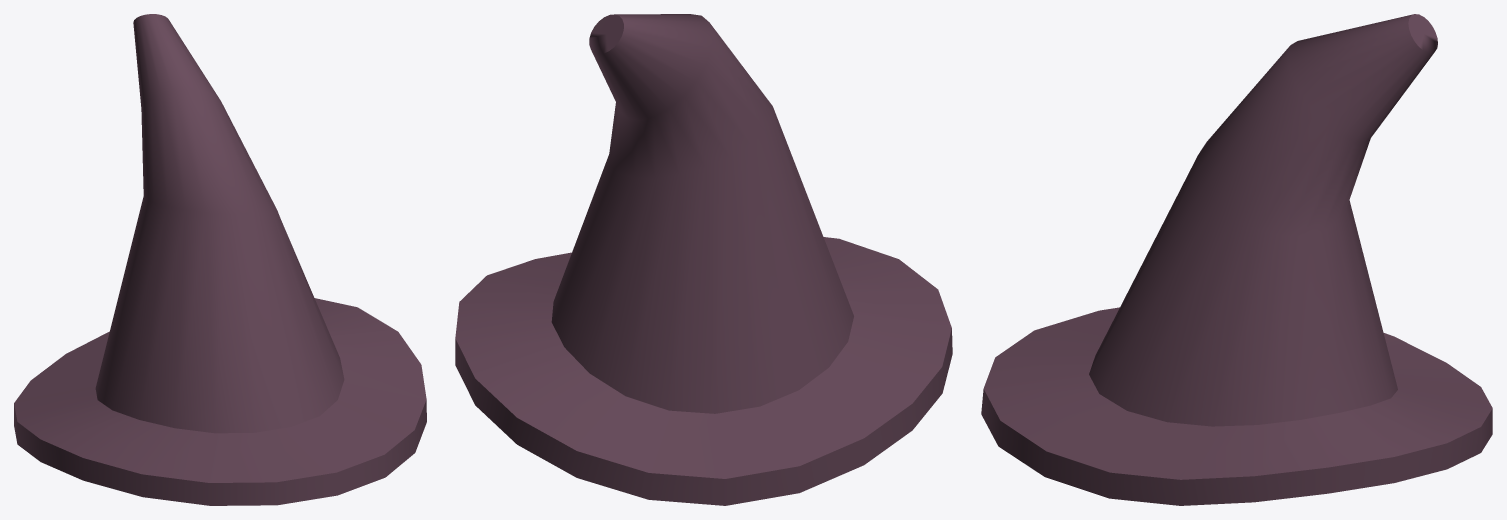
The model's file is Hat_Witch.fbx.
3 renders of one model, left to right at view 1: azimuth 30°, elevation 25°; view 2: azimuth 150°, elevation 25°; view 3: azimuth 270°, elevation 25°, orthographic. The views are drawn at different scales.
Visible parts, largest first — view 1: Hat_Witch; view 2: Hat_Witch; view 3: Hat_Witch.
Boxes of the visible parts, left/top/right/bottom form: Hat_Witch: left=14, top=14, right=426, bottom=505; Hat_Witch: left=455, top=14, right=952, bottom=505; Hat_Witch: left=981, top=14, right=1492, bottom=505.
Bounding box in the file's own units: 1.67 × 1.67 × 1.79.
